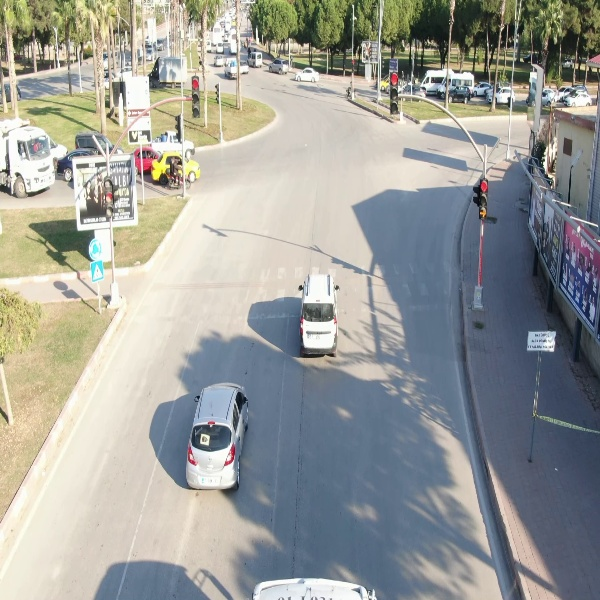car: (181, 382, 253, 489), (298, 273, 341, 358), (562, 88, 595, 108), (488, 85, 517, 107), (444, 84, 472, 104), (266, 57, 291, 77), (294, 66, 320, 84), (246, 51, 265, 70), (212, 53, 226, 70)
